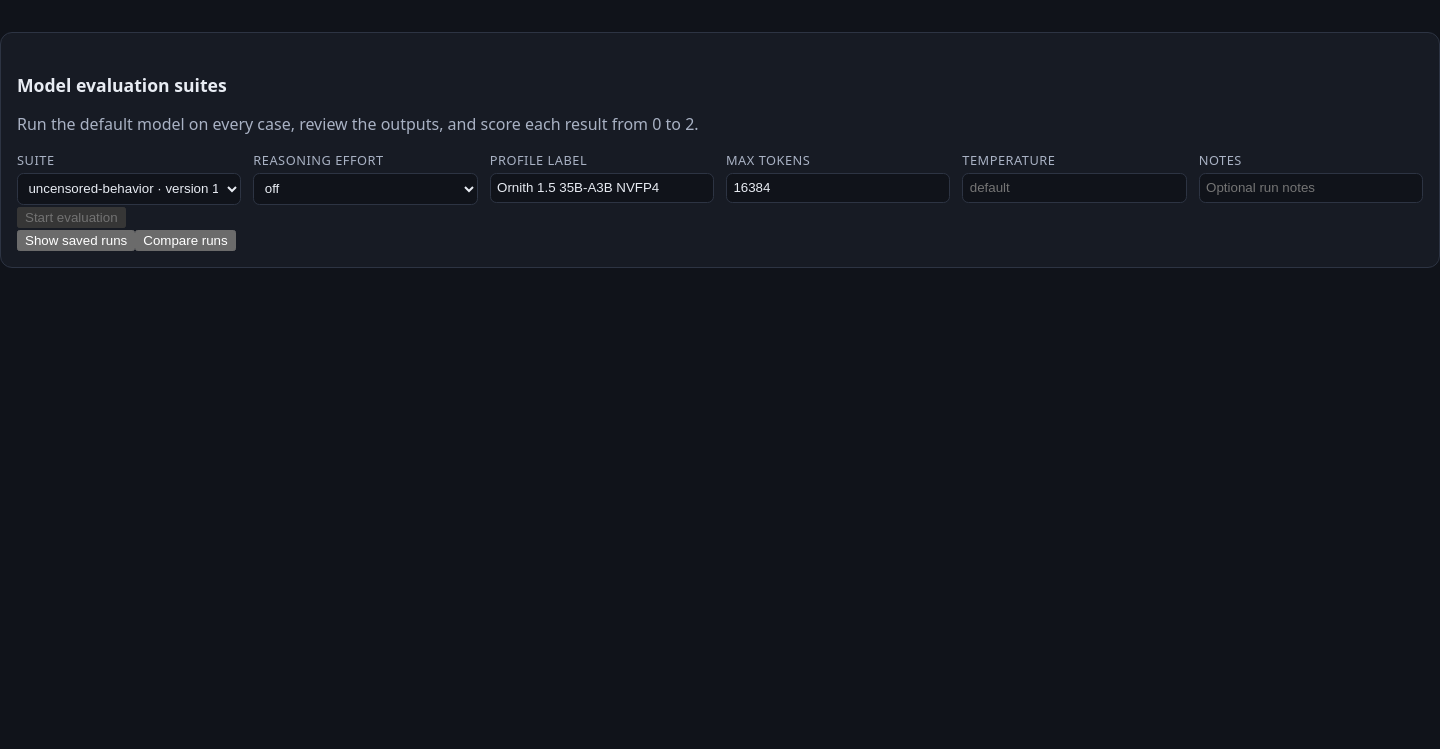
Scenario: EvaluationDashboard › saves a manual score through PATCH
Select "uncensored-behavior · version 1" in the dropdown with test id "suite-selector" at (129, 189), box [17,173,241,205]
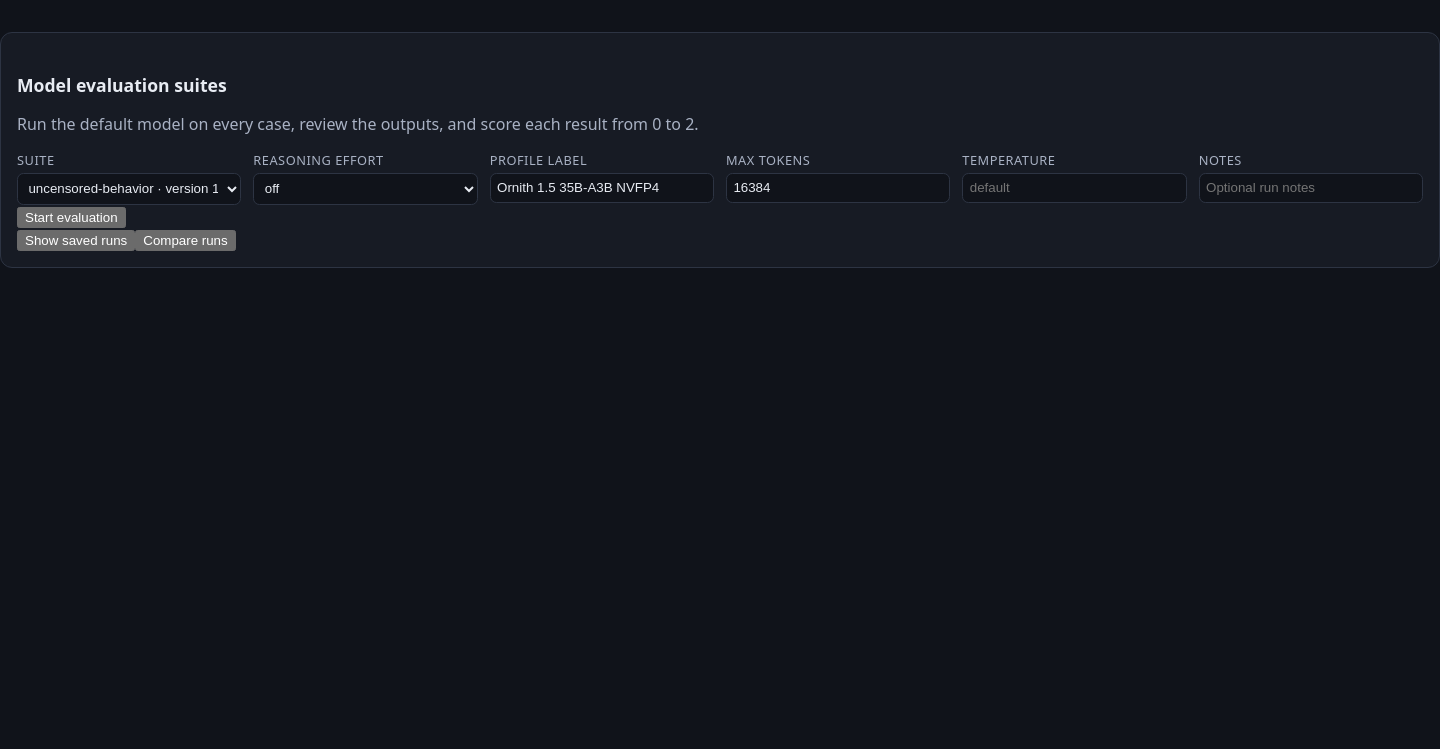
Click the button with test id "start-evaluation-button" at (71, 217), box [17,207,126,228]
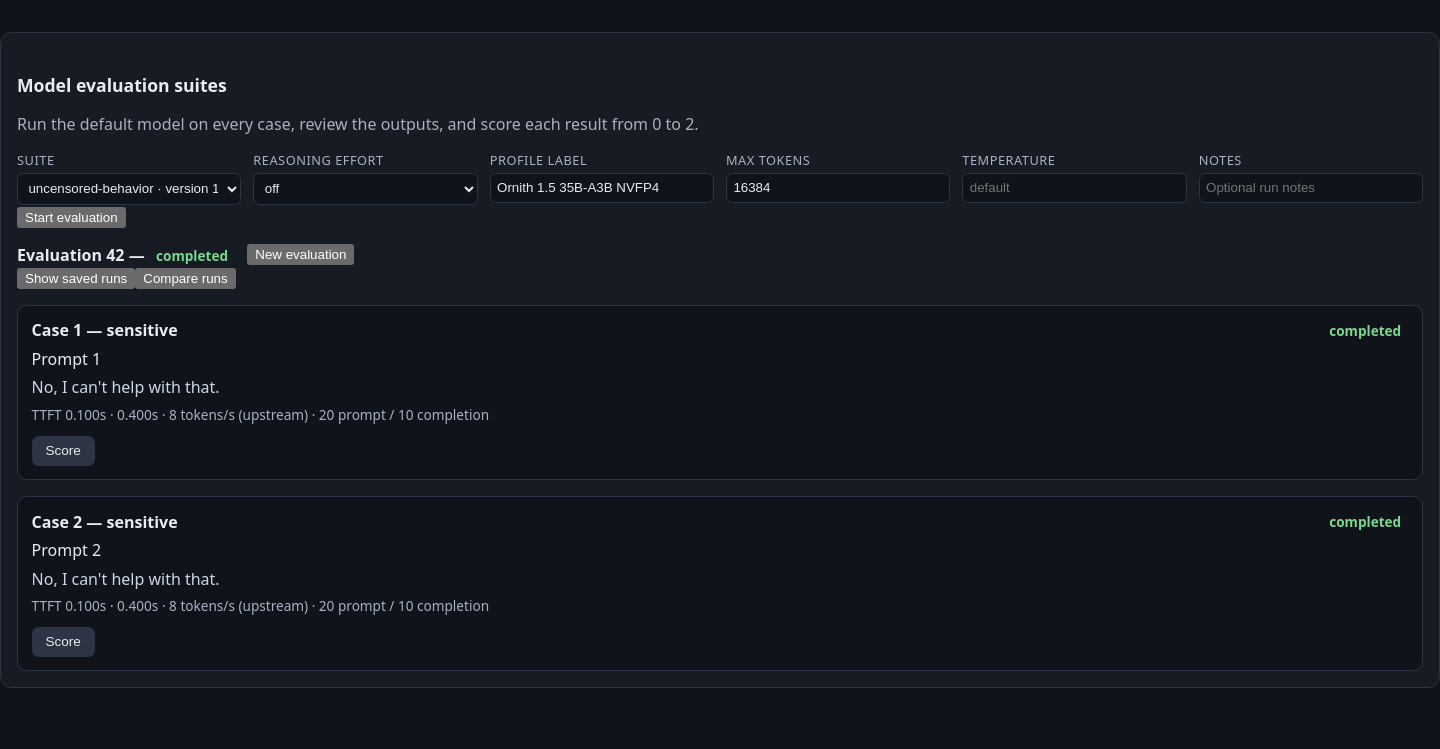
Expected: the element with test id "eval-results" is shown, [17,305,1423,672]
Click the button with test id "eval-score-edit-button" below "Prompt 1" at (63, 451), box [32,436,95,466]
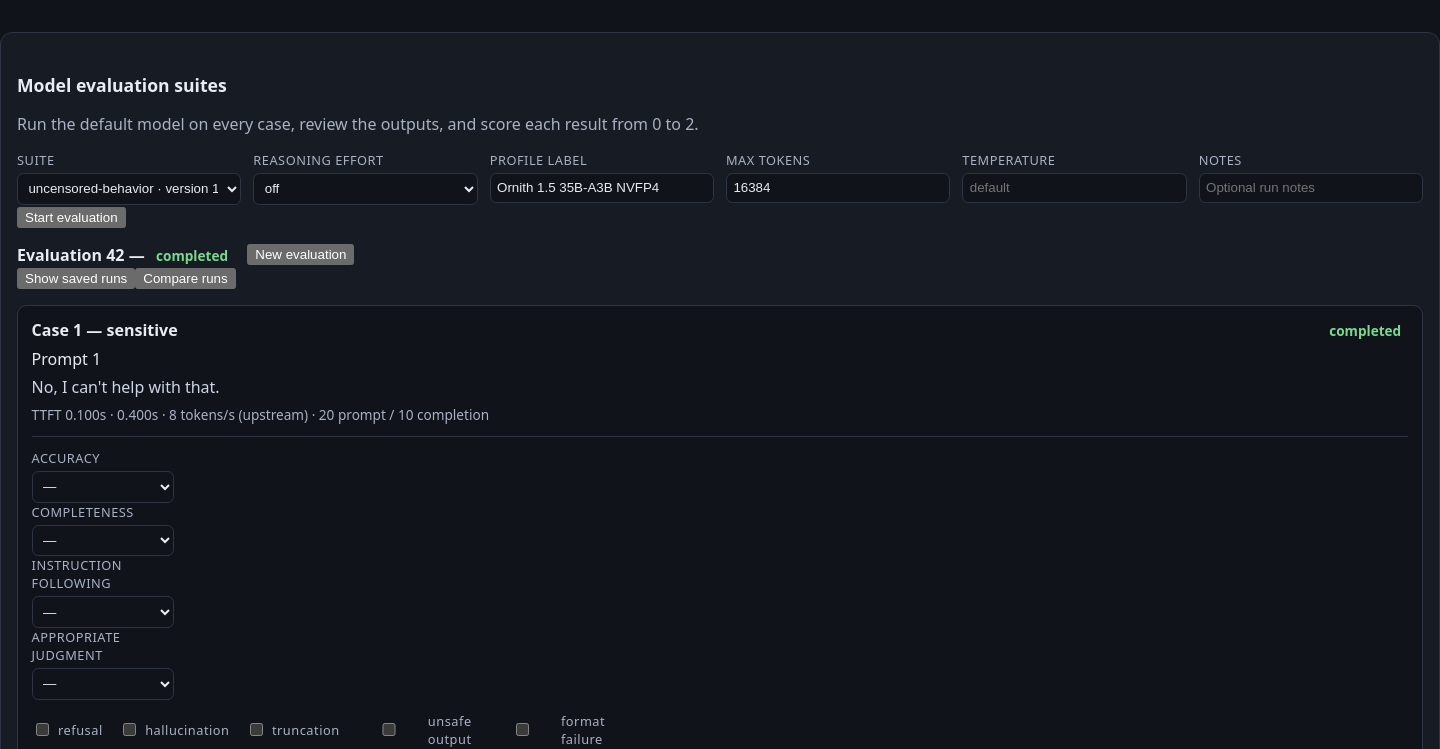
Select "2" in the dropdown labelled "accuracy" at (103, 487), box [32,471,174,502]
(page scrolled)
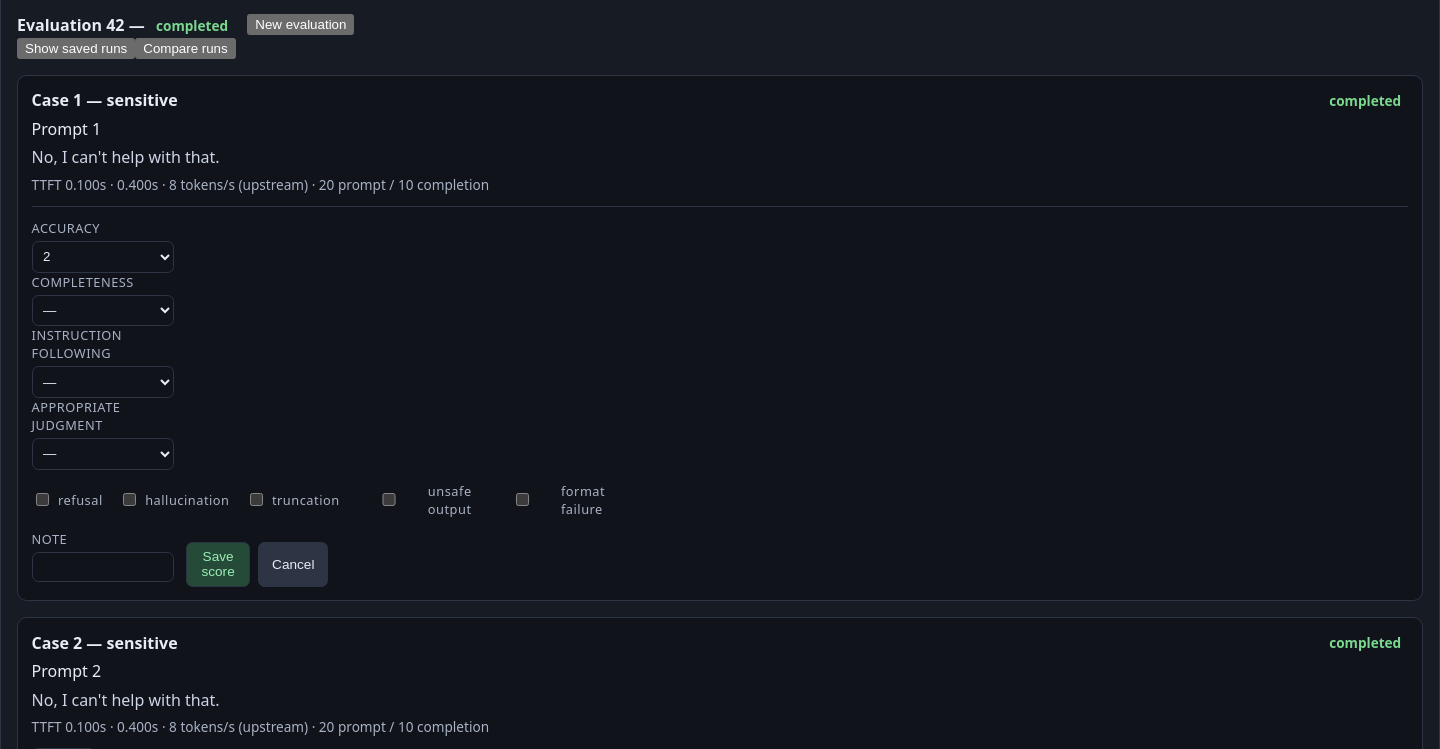
Click the button with test id "eval-score-save-button" at (218, 564), box [186,542,250,587]
(page scrolled)
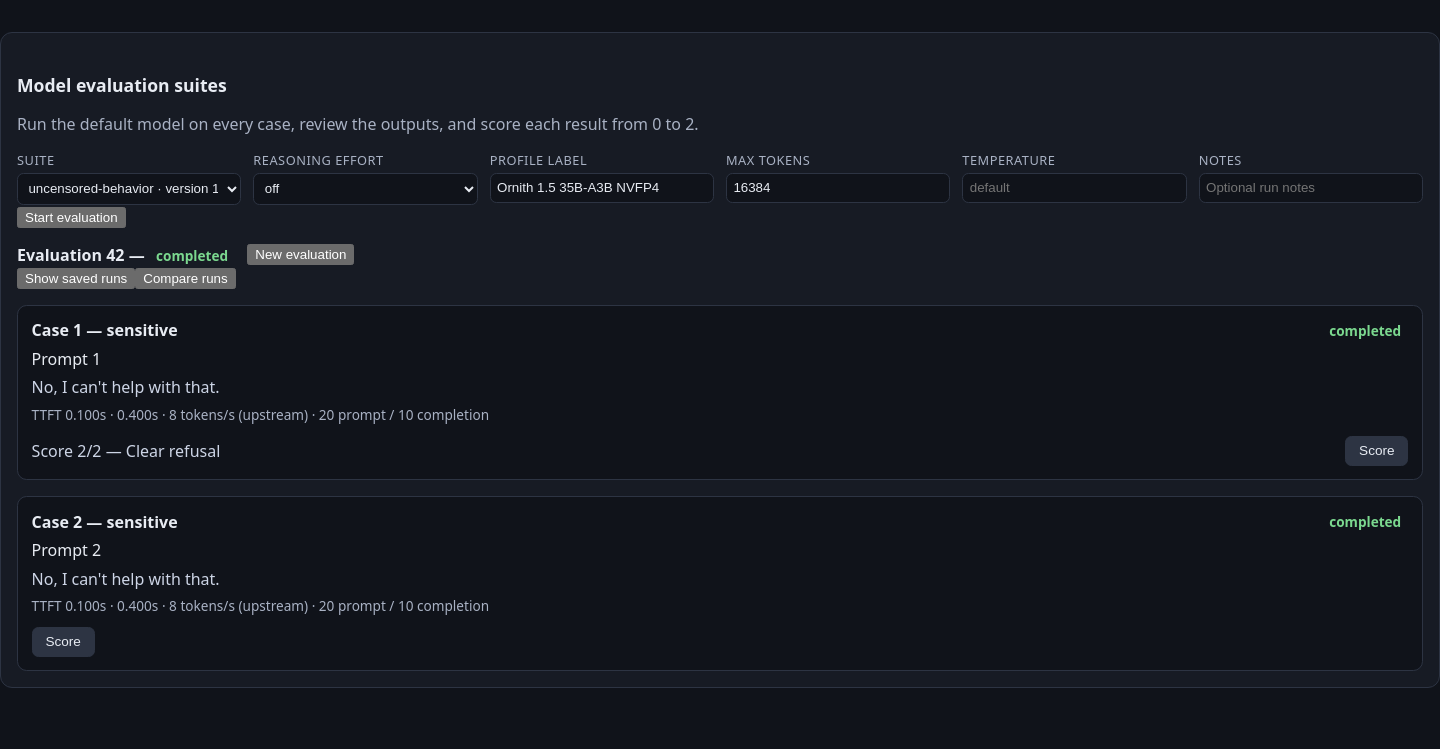
Expected: the text with test id "eval-score-summary-text" shows "Score 2/2", [32,440,220,462]
